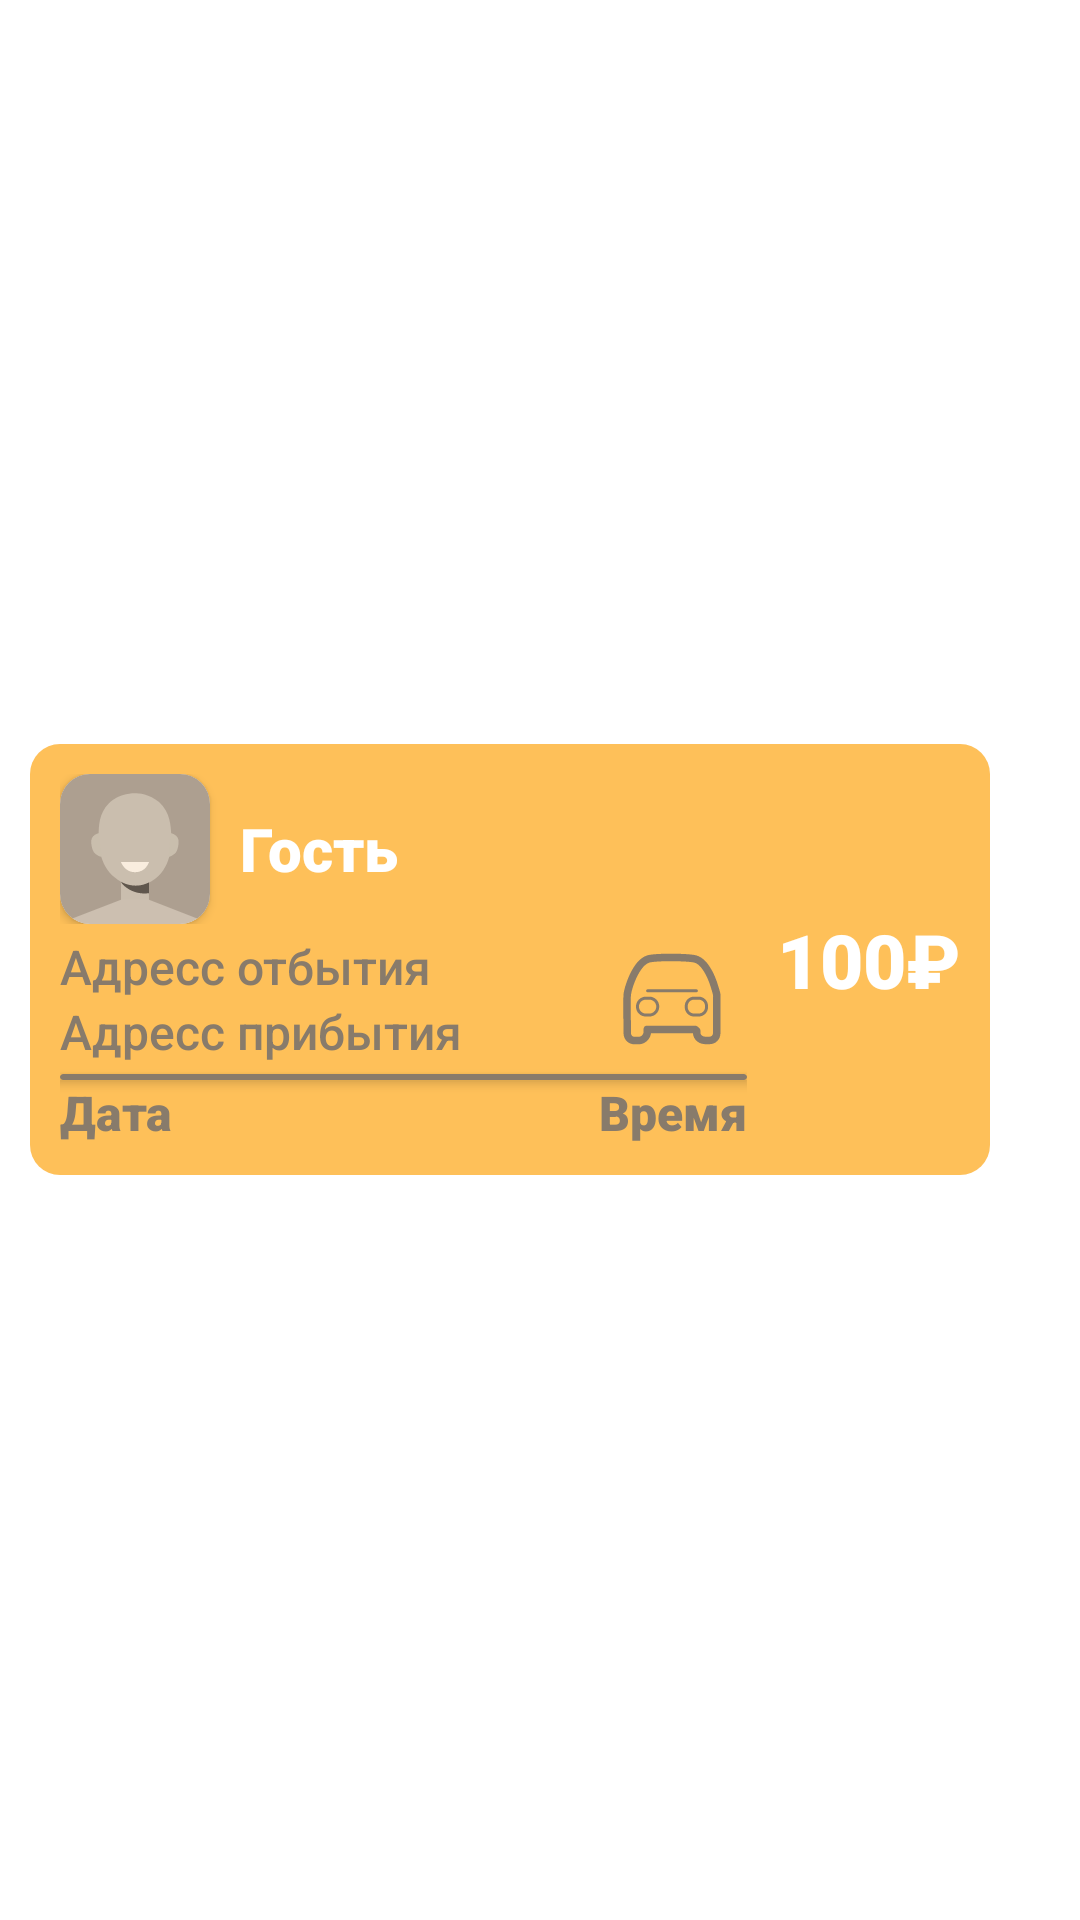

Named icons in this screenshot (1080×1920) and their bounding boxes, (x1, y1, x2, y2):
car: (623, 953, 721, 1045)
